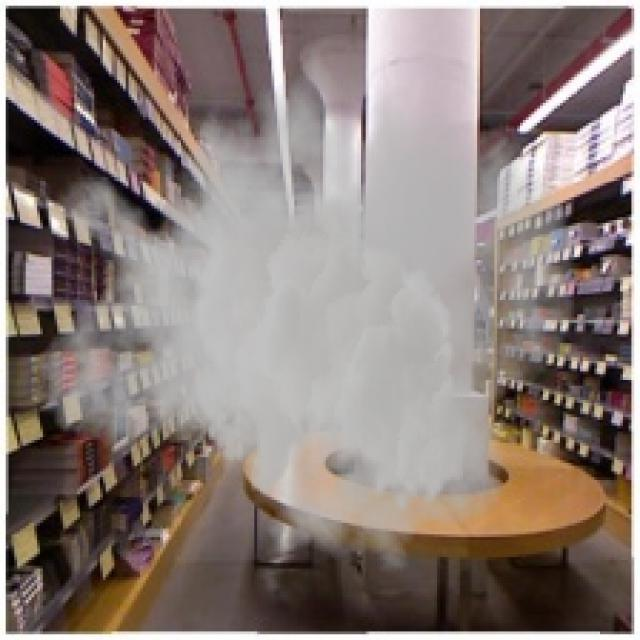Smoke: (37, 22, 577, 574)
